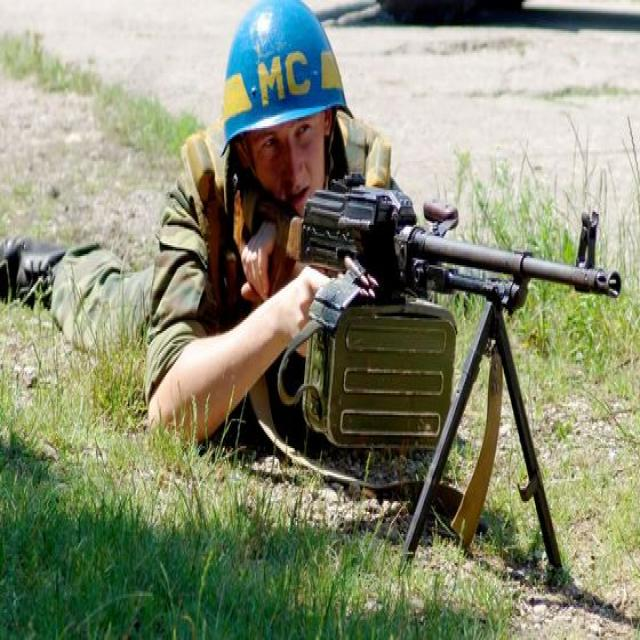firearm: (249, 170, 621, 578)
